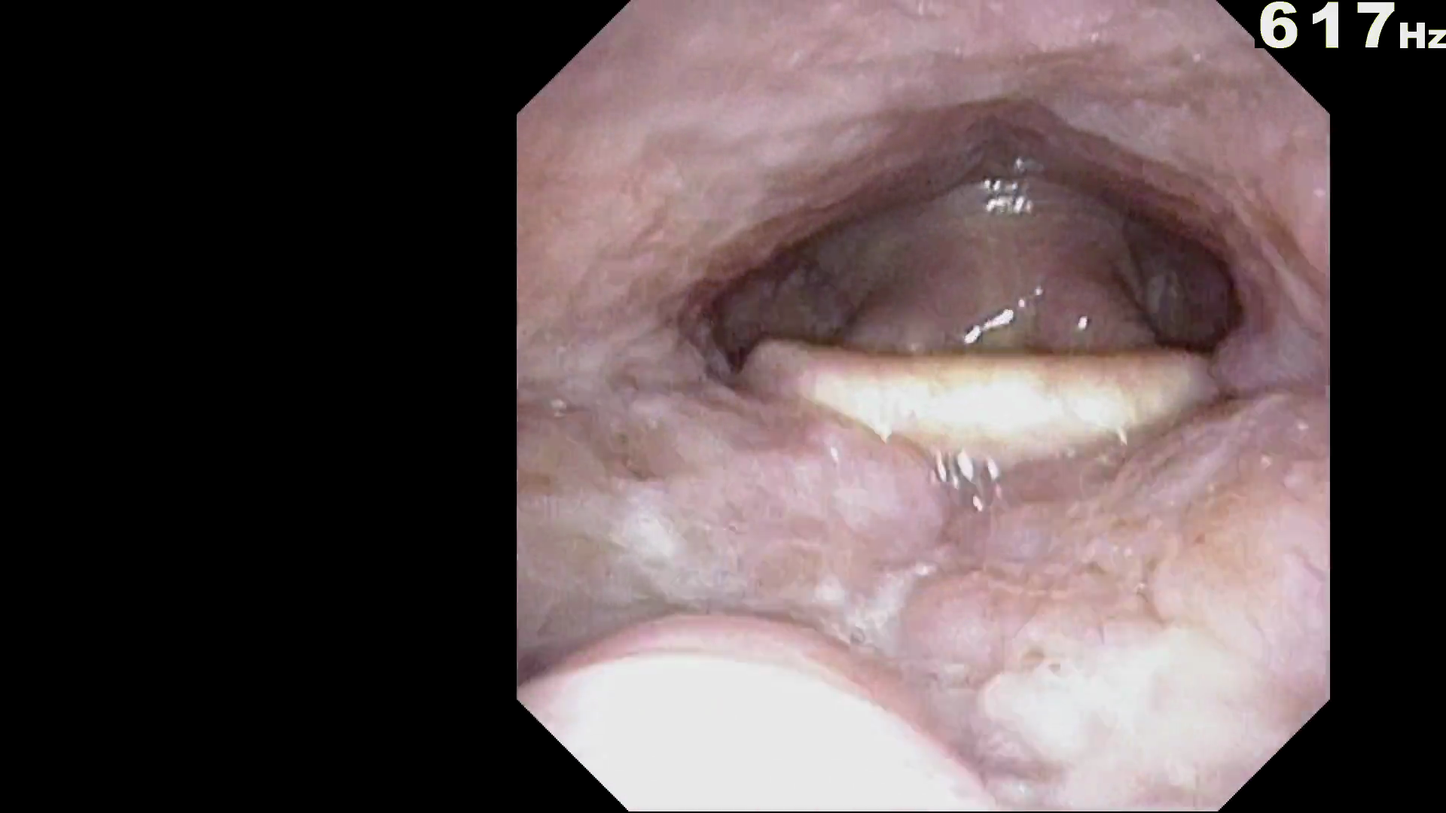epiglottis: (756, 309, 1209, 473)
